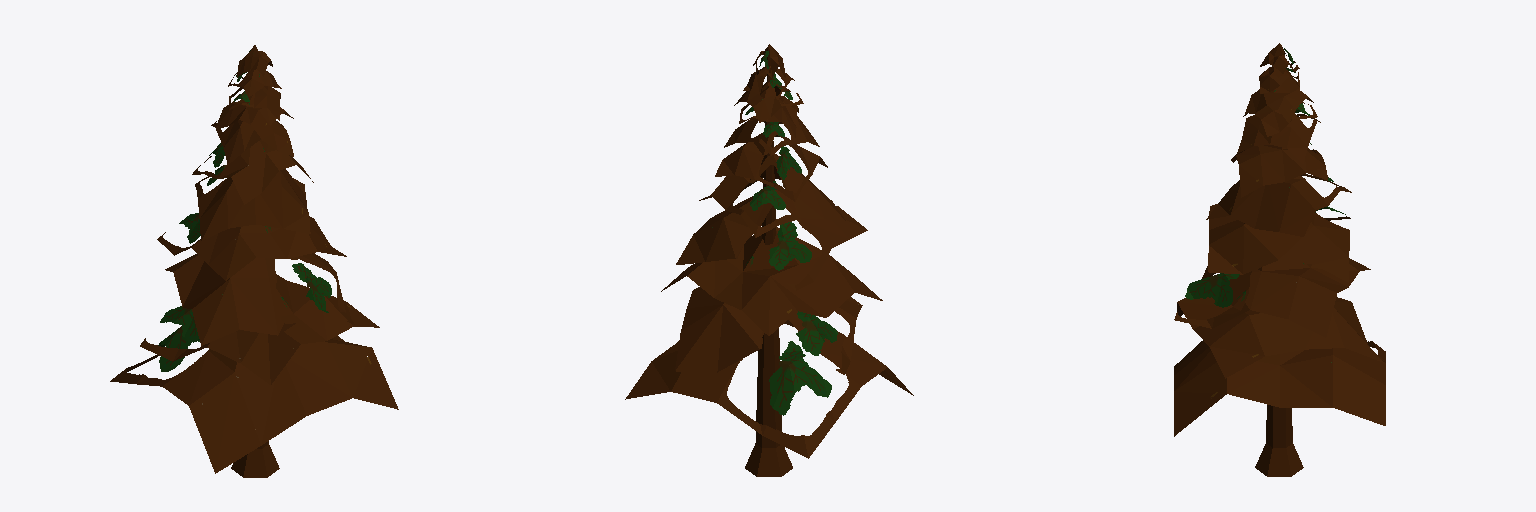
3 renders of one model, left to right at view 1: azimuth 30°, elevation 25°; view 2: azimuth 150°, elevation 25°; view 3: azimuth 270°, elevation 25°, orthographic.
Visible parts, largest first — view 1: Grid; view 2: Grid; view 3: Grid.
Boxes of the visible parts, <box> form: Grid: <box>110,45,398,477</box>; Grid: <box>625,44,913,476</box>; Grid: <box>1174,43,1385,476</box>.
Size of the model in its own units: 9.13 by 19.12 by 8.66.
1 materials, 1 textured.